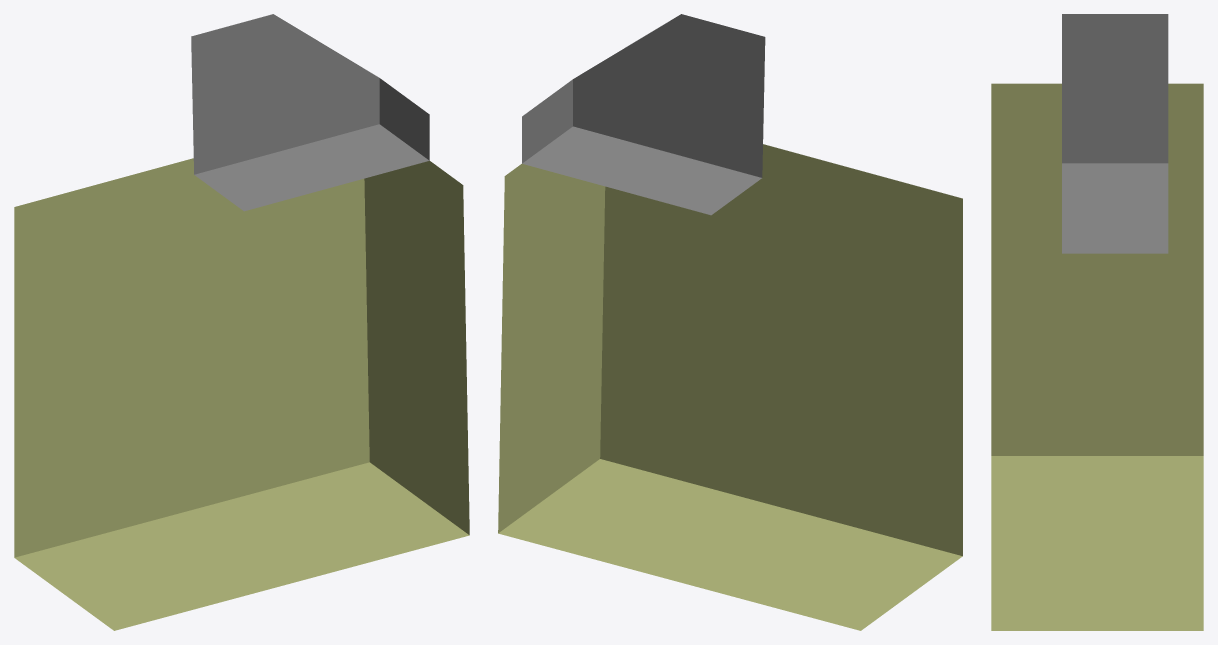
3 views of the same model, side by side, from view 1: azimuth 30°, elevation 25°; view 2: azimuth 150°, elevation 25°; view 3: azimuth 270°, elevation 25° (orthographic). The views are drawn at different scales.
Parts seen in each view (by area): view 1: 0_3_2_0_2_0_1_3_0_1; view 2: 0_3_2_0_2_0_1_3_0_1; view 3: 0_3_2_0_2_0_1_3_0_1.
Part boxes in pixels (box(x1,y1,x2,y2)): 0_3_2_0_2_0_1_3_0_1: box(14, 14, 469, 630); 0_3_2_0_2_0_1_3_0_1: box(498, 14, 962, 630); 0_3_2_0_2_0_1_3_0_1: box(991, 14, 1203, 630).
Bounding box in the file's own units: 12.32 × 16.44 × 6.
